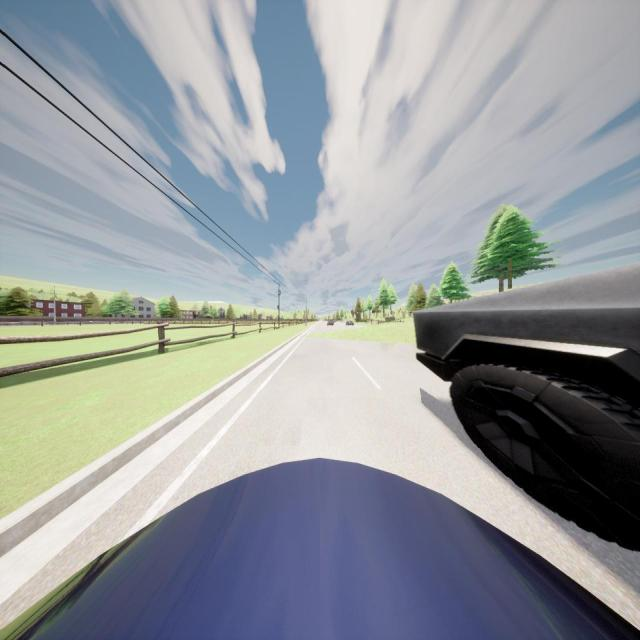Vehicle: (0, 457, 640, 640), (413, 261, 640, 552), (345, 320, 354, 326), (327, 320, 335, 326)
